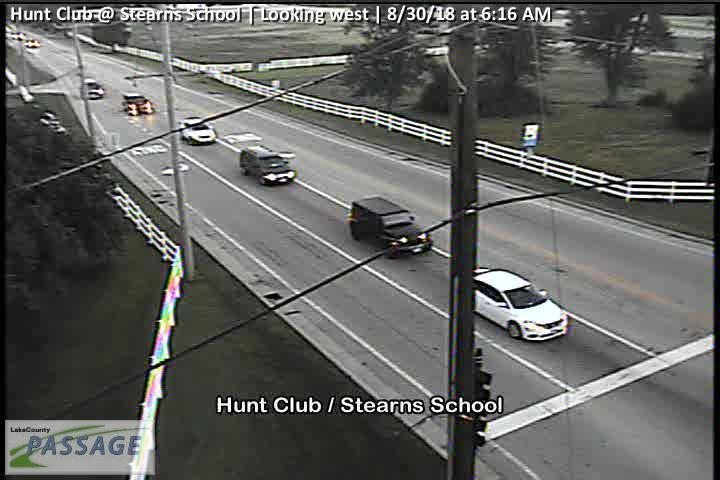SUV: (347, 197, 433, 258), (238, 146, 298, 185)
Sedan: (471, 268, 567, 341), (179, 118, 218, 145), (122, 93, 153, 116), (79, 78, 105, 100)
